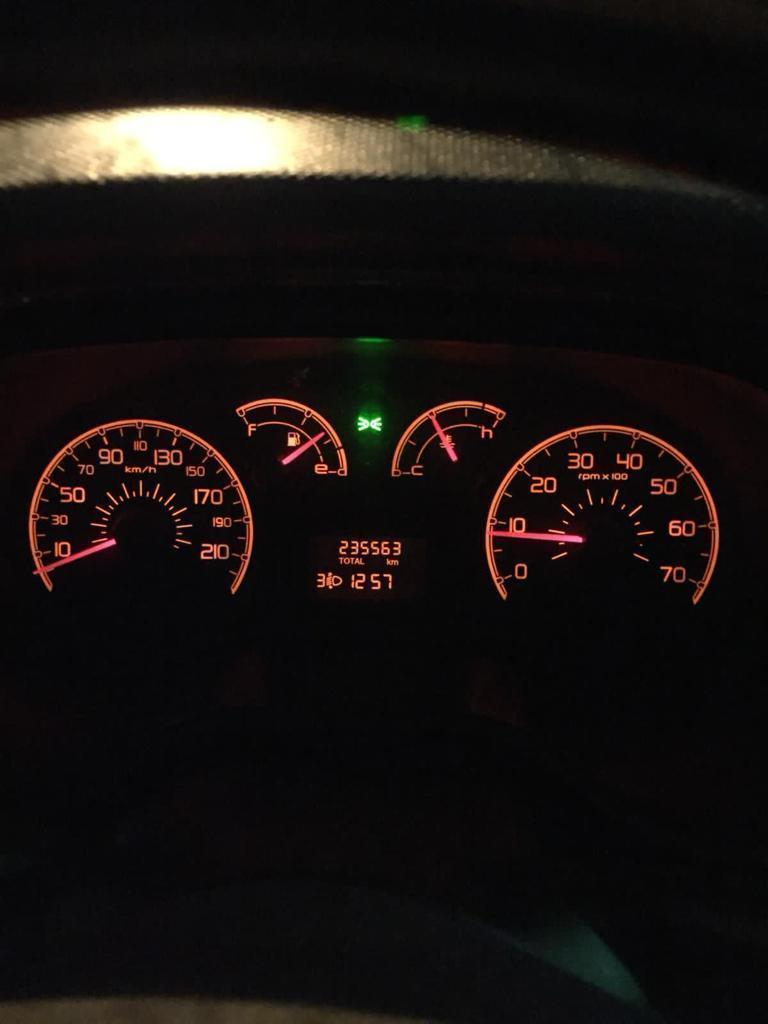1: (350, 573, 354, 590)
2: (355, 572, 365, 590), (338, 539, 348, 555)
3: (392, 540, 401, 555), (317, 572, 325, 587), (350, 539, 358, 554)
5: (370, 572, 381, 589), (370, 539, 379, 555), (360, 540, 369, 555)
6: (381, 540, 390, 556)
7: (383, 571, 392, 589)
X: (390, 558, 399, 566), (359, 557, 365, 564), (338, 556, 343, 564), (386, 557, 390, 566), (344, 557, 349, 564), (355, 557, 359, 564), (350, 557, 354, 564)
odometer: (303, 532, 422, 600)
